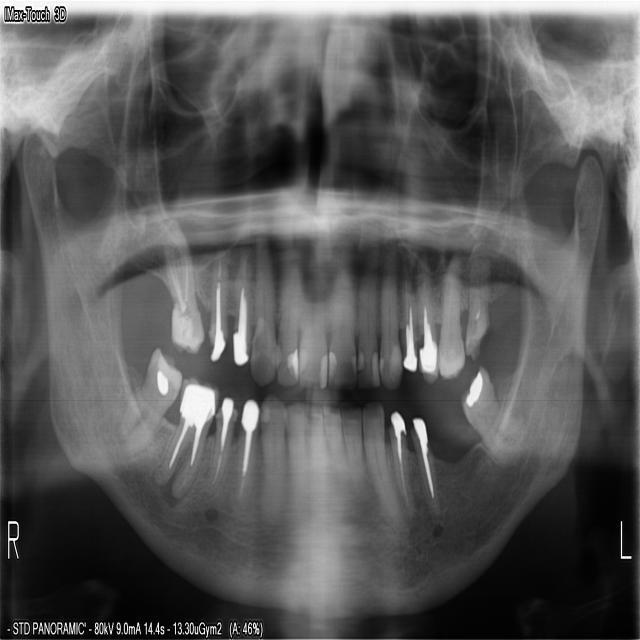LCD: (361, 398, 409, 533)
LCU: (378, 229, 404, 393)
LID: (322, 401, 351, 522), (341, 403, 373, 511)
LIU: (327, 244, 356, 392), (355, 242, 380, 392)
LMD: (458, 360, 525, 462)
LMU: (463, 233, 490, 364), (439, 251, 466, 381)
LPMU: (414, 247, 439, 387)
RCD: (258, 390, 284, 536)
RCU: (248, 234, 274, 389)
RID: (283, 396, 308, 533), (309, 402, 327, 534)
RIU: (296, 252, 328, 393), (273, 244, 302, 389)
RMD: (147, 370, 220, 504), (115, 345, 181, 458)
RMU: (157, 212, 204, 358)
